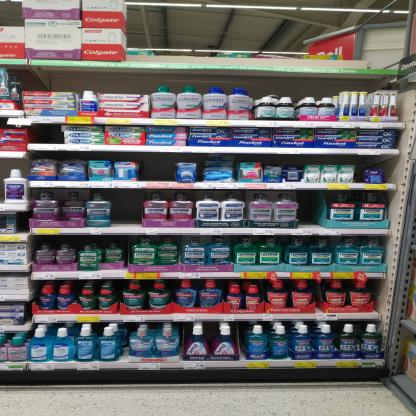Void: (130, 6, 300, 60), (111, 190, 141, 224), (145, 156, 179, 180), (297, 193, 323, 224), (28, 124, 65, 141)
